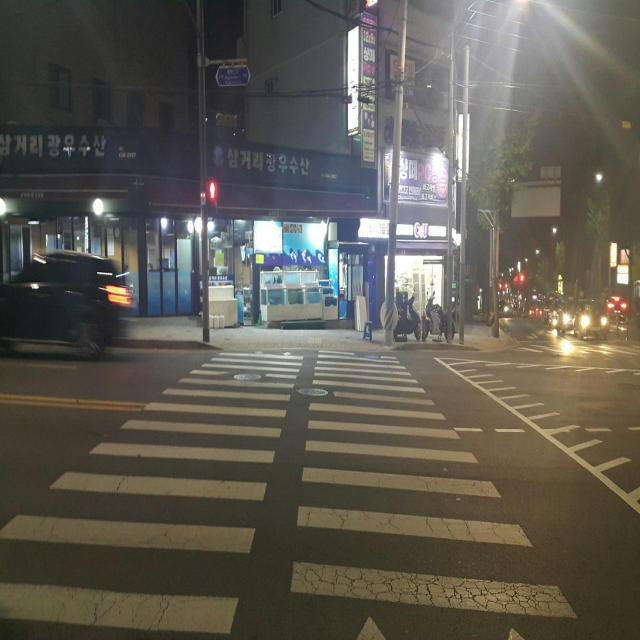빨간불: (205, 180, 220, 220)
횡단보도: (0, 348, 580, 640)
